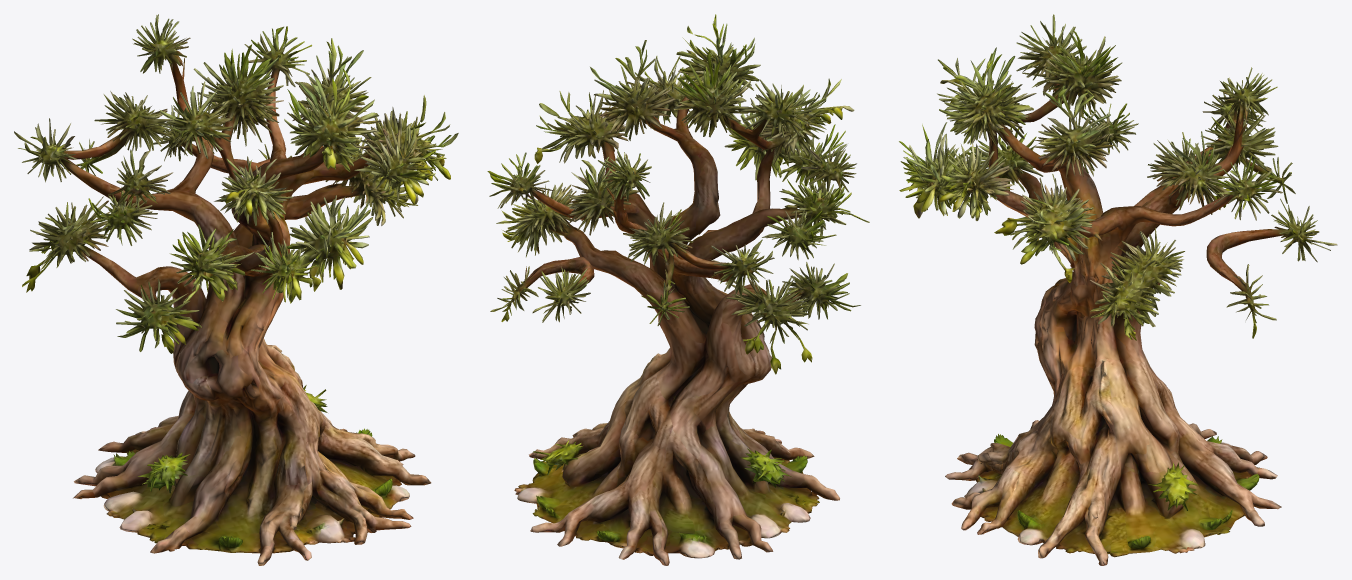
The model's file is olive.glb.
The picture shows the model from 3 angles, left to right: view 1: azimuth 30°, elevation 25°; view 2: azimuth 150°, elevation 25°; view 3: azimuth 270°, elevation 25°; orthographic projection. The views are drawn at different scales.
Visible parts, largest first — view 1: tripo_node_1496ab81-2641-4048-b039-b5c024769e31; view 2: tripo_node_1496ab81-2641-4048-b039-b5c024769e31; view 3: tripo_node_1496ab81-2641-4048-b039-b5c024769e31.
Part boxes in pixels (bbox=[...]): tripo_node_1496ab81-2641-4048-b039-b5c024769e31: bbox=[14, 14, 458, 565]; tripo_node_1496ab81-2641-4048-b039-b5c024769e31: bbox=[487, 14, 869, 565]; tripo_node_1496ab81-2641-4048-b039-b5c024769e31: bbox=[899, 14, 1337, 565].
Size of the model in its own units: 0.801 by 0.9803 by 0.8637.
Materials: 1 (1 with a texture image).
